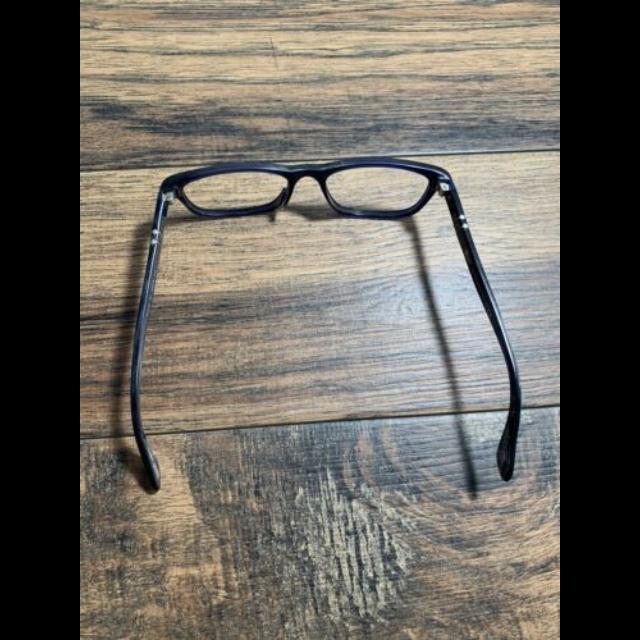glasses: (128, 153, 526, 492)
